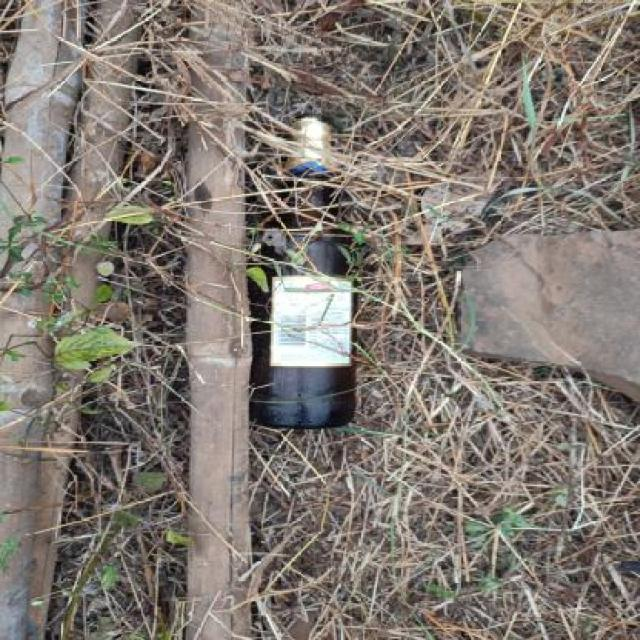garbage: (226, 109, 426, 453)
